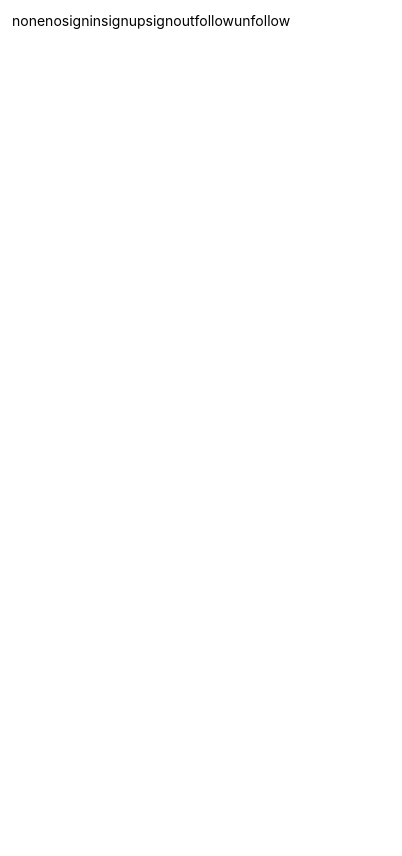
it: AuthProvider › follow e unfollow atualizam isFollowing
The image size is (402, 856).
expect the text "no" is shown: met, box [45,12,62,29]
What coordinates should you click on to do the following:
click the button labelled "follow"
I would click on:
 (214, 434)
Its box is [194,12,234,855].
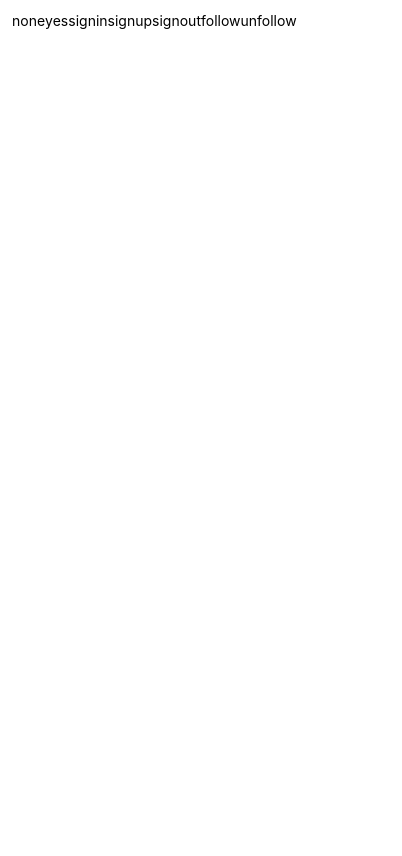
expect the text with test id "following" reads "yes": met, box [45,12,68,29]
What coordinates should you click on to do the following:
click the button labelled "unfollow"
I would click on:
 (269, 434)
Its box is [240,12,297,855].
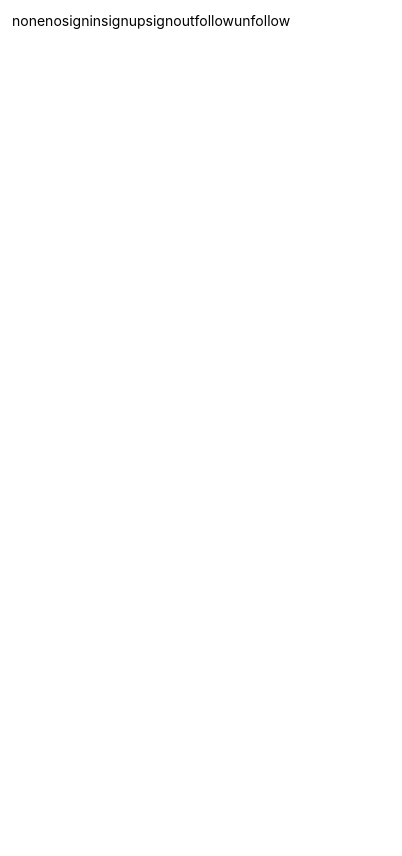
expect the text with test id "following" reads "no": met, box [45,12,62,29]
